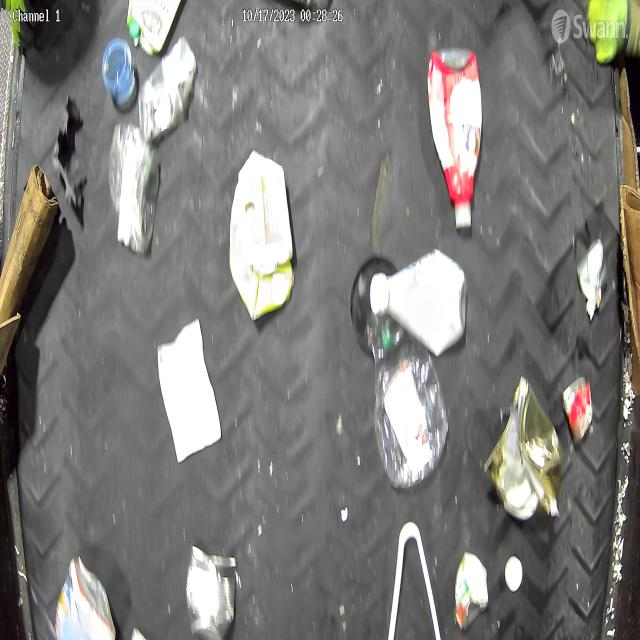can: (484, 376, 564, 522), (186, 542, 236, 640), (563, 373, 595, 442)
non_white_jug: (229, 150, 295, 320)
